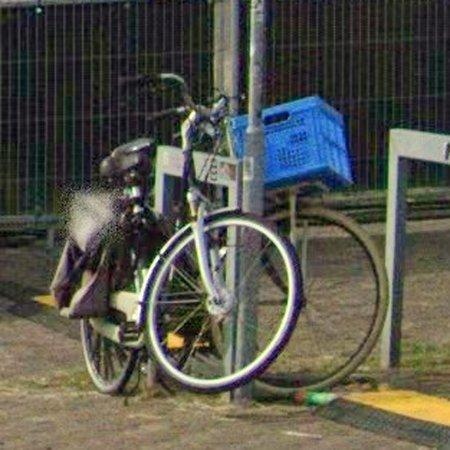bicycles: (50, 74, 303, 395), (256, 96, 389, 395)
